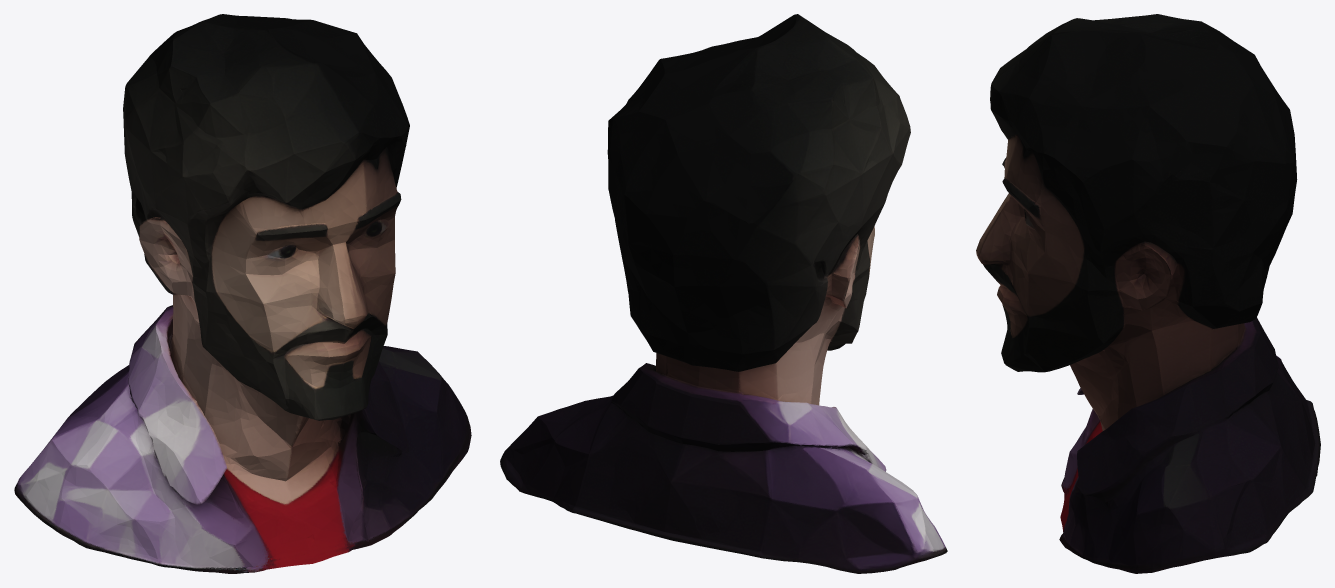
Rendered from model_raw.glb.
3 views of the same model, side by side, from view 1: azimuth 30°, elevation 25°; view 2: azimuth 150°, elevation 25°; view 3: azimuth 270°, elevation 25° (orthographic). The views are drawn at different scales.
Parts seen in each view (by area): view 1: world; view 2: world; view 3: world.
Boxes of the visible parts, x1,y1,x2,y2 form: world: [14, 14, 471, 573]; world: [500, 14, 947, 573]; world: [976, 14, 1320, 573].
Size of the model in its own units: 0.8878 by 0.9877 by 0.639.
Materials: 1 (1 with a texture image).
